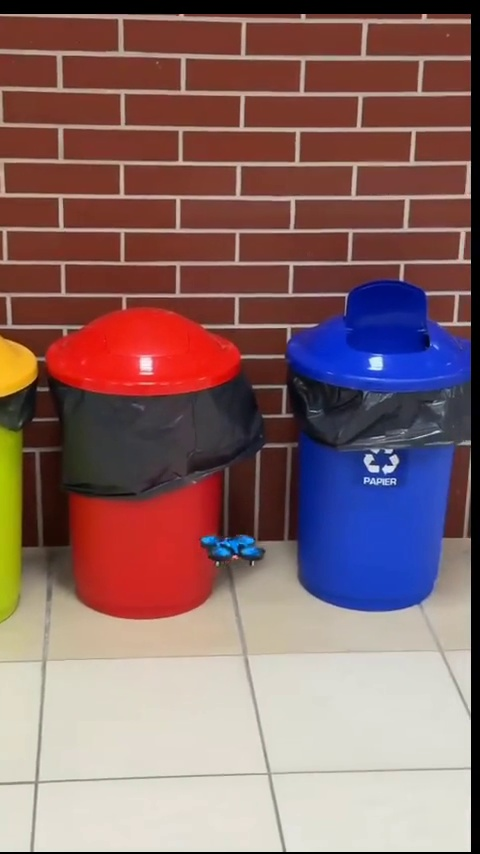drone: (196, 529, 268, 559)
